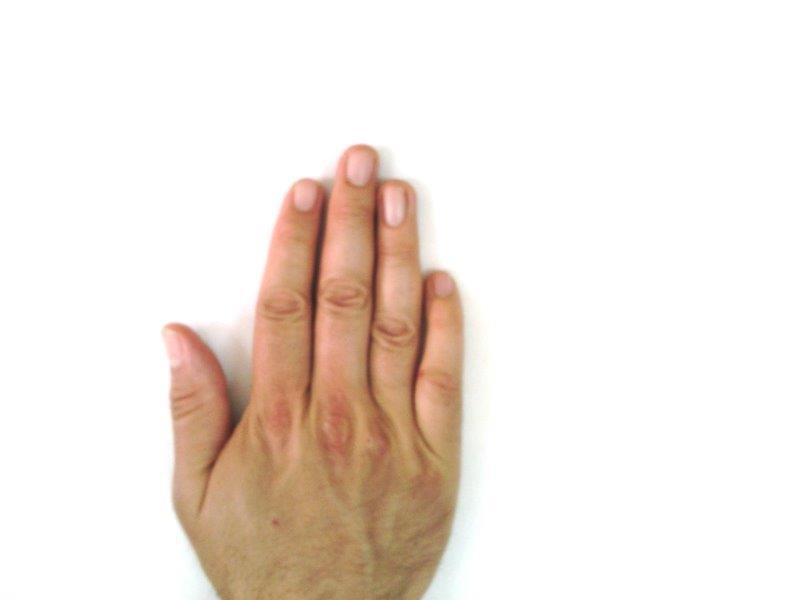hand: (163, 144, 464, 594)
